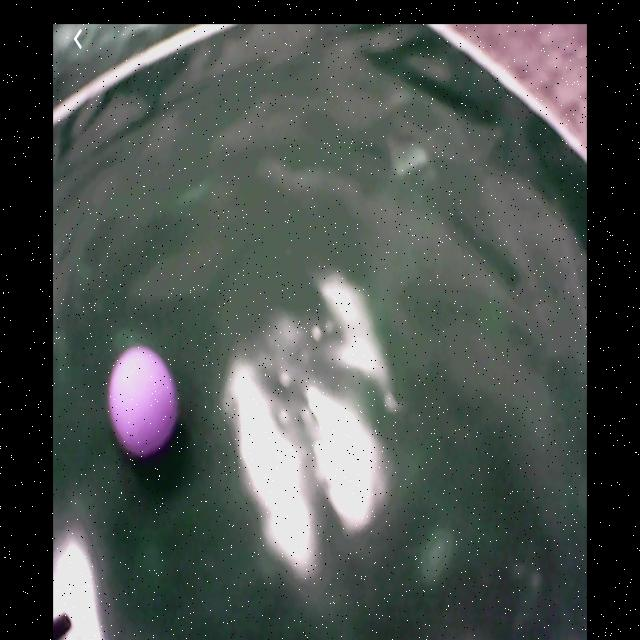ball: (109, 347, 177, 461)
